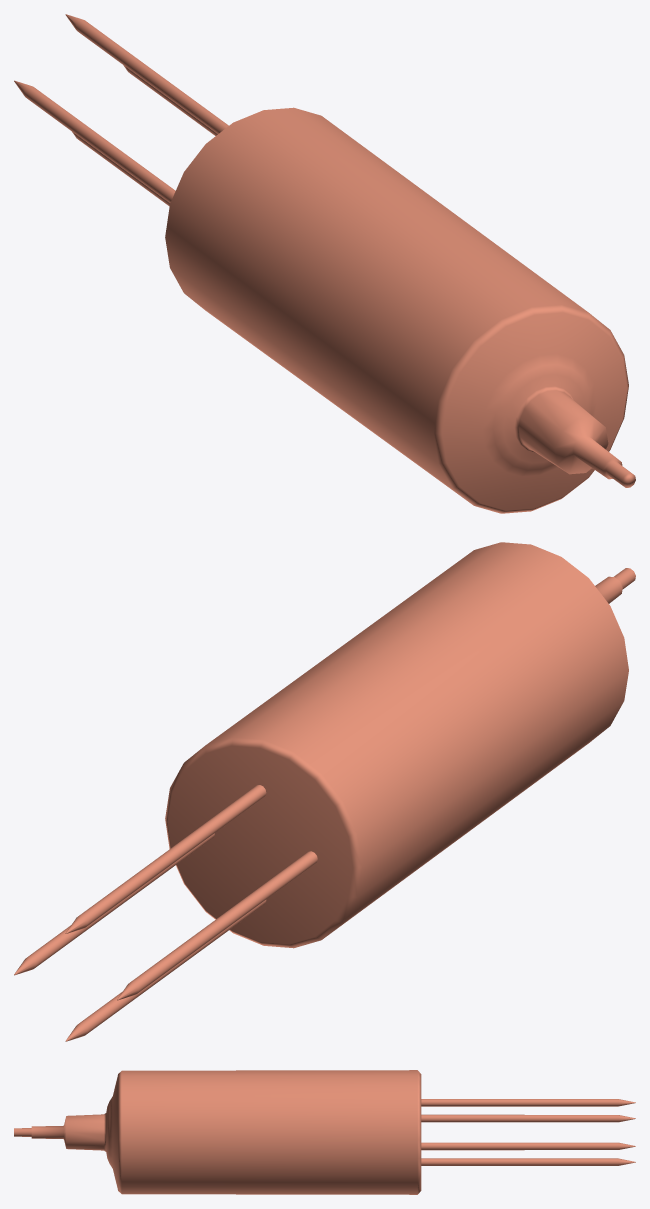
The picture shows the model from 3 angles, top to bottom: view 1: azimuth 30°, elevation 25°; view 2: azimuth 150°, elevation 25°; view 3: azimuth 270°, elevation 25°; orthographic projection. The views are drawn at different scales.
Visible parts, largest first — view 1: M1_low, M2_low; view 2: M1_low, M2_low; view 3: M1_low, M2_low.
Boxes of the visible parts, bbox=[...] form: M1_low: bbox=[165, 107, 635, 513]; M2_low: bbox=[14, 14, 228, 206]; M1_low: bbox=[165, 542, 635, 948]; M2_low: bbox=[14, 785, 317, 1041]; M1_low: bbox=[14, 1070, 421, 1194]; M2_low: bbox=[421, 1099, 635, 1165].
Size of the model in its own units: 0.0859 by 0.0859 by 0.4253.
